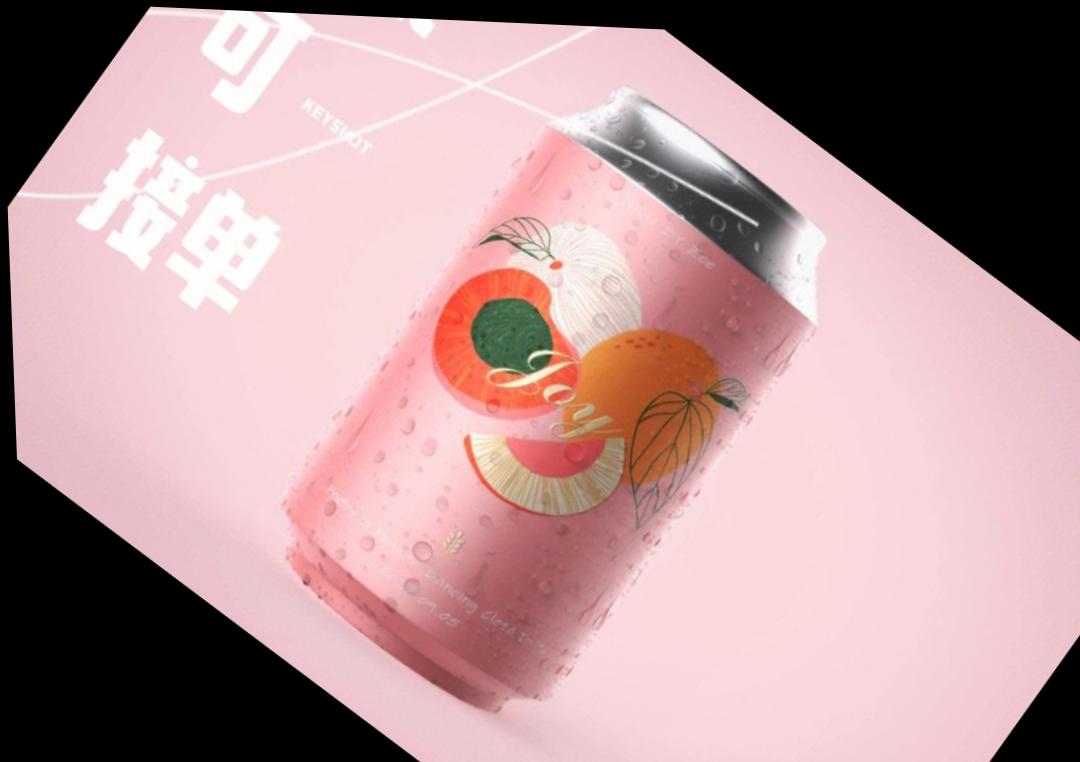metal: (285, 89, 823, 707)
